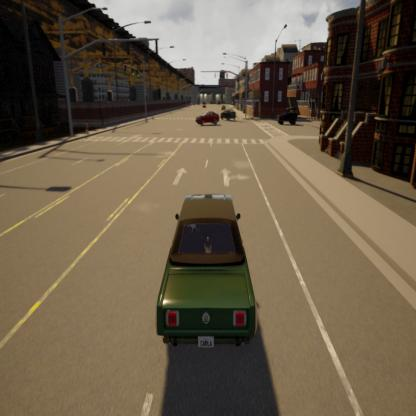Cars: (156, 192, 258, 354), (195, 110, 220, 127), (279, 108, 296, 124), (221, 108, 236, 121)
